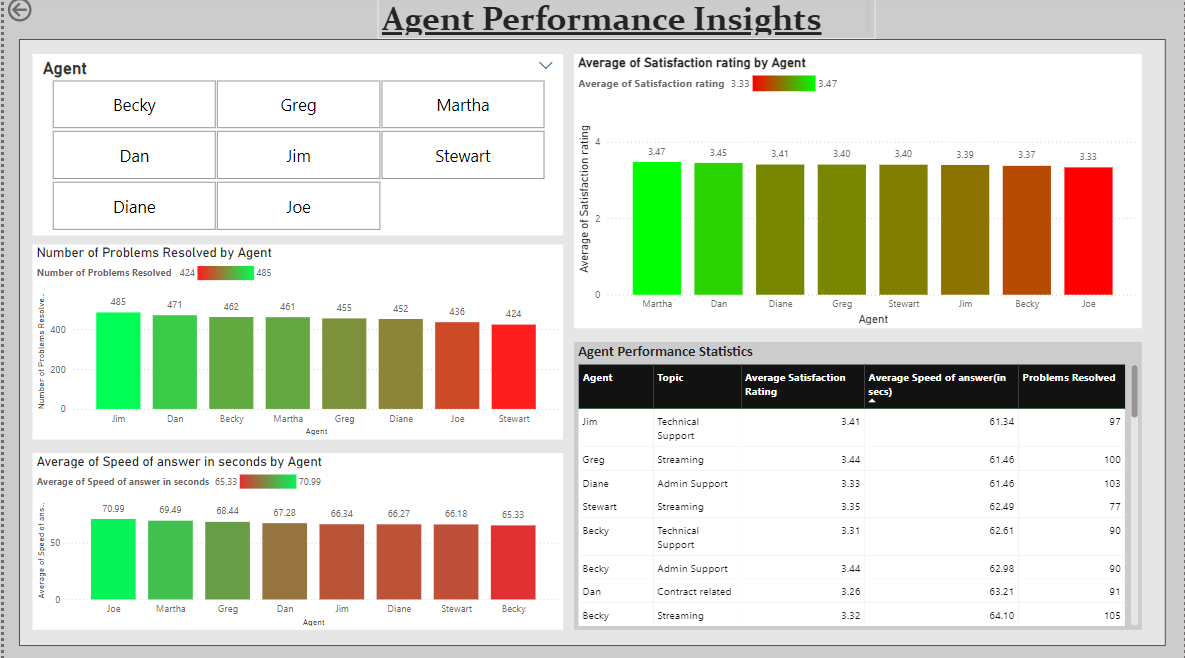

Layout of this report page (visuals, bound fields, positions):
{"tool":"powerbi","page":{"name":"Agent Performance","canvas":[1500,848],"ordinal":1},"visuals":[{"type":"actionButton","box":[0,0,100,40],"z":0},{"type":"textbox","box":[474.5,0,632.7,57.2],"z":1000},{"type":"shape","box":[19.1,57.2,1457.8,771.8],"z":2000},{"type":"tableEx","title":"Agent Performance Statistics","fields":{"Values":["Sheet1.Agent","Sheet1.Topic","Avg(Sheet1.Satisfaction rating)","Avg(Sheet1.Speed of answer in seconds)","Sheet1.ResolvedYes"]},"box":[724.1,442.1,722.2,365.9],"z":3000},{"type":"columnChart","fields":{"Category":["Sheet1.Agent"],"Y":["Avg(Sheet1.Satisfaction rating)"]},"box":[724.1,76.2,722.2,348.7],"z":4000},{"type":"slicer","fields":{"Values":["Sheet1.Agent"]},"box":[36.2,76.2,674.6,230.6],"z":5000},{"type":"columnChart","fields":{"Category":["Sheet1.Agent"],"Y":["Sheet1.ResolvedYes"]},"box":[36.2,318.2,674.6,247.7],"z":6000},{"type":"columnChart","fields":{"Y":["Avg(Sheet1.Speed of answer in seconds)"],"Category":["Sheet1.Agent"]},"box":[36.2,583.1,674.6,224.9],"z":7000}]}

Visuals, with their boxes on the page's 1500x848 design canvas (x1, y1, x2, y2). These are canvas units, not pixel positions in the 1185x658 screenshot, which may show the page scaled, cropped or inside an application window:
actionButton: 0,0,100,40
textbox: 474,0,1107,57
shape: 19,57,1477,829
"Agent Performance Statistics" tableEx: 724,442,1446,808
columnChart - Sheet1.Agent x Avg(Sheet1.Satisfaction rating): 724,76,1446,425
slicer - Sheet1.Agent: 36,76,711,307
columnChart - Sheet1.Agent x Sheet1.ResolvedYes: 36,318,711,566
columnChart - Avg(Sheet1.Speed of answer in seconds) x Sheet1.Agent: 36,583,711,808
